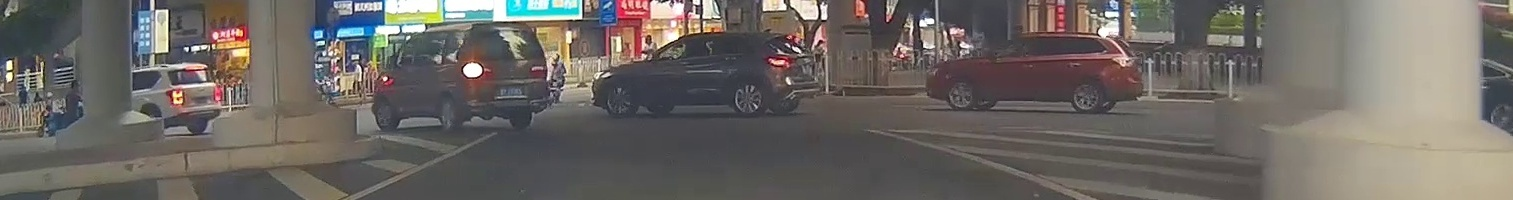L_light: (166, 89, 184, 106), (463, 66, 490, 76)
R_light: (530, 65, 546, 76), (213, 86, 222, 101)
T_light: (185, 66, 204, 70), (502, 28, 518, 31)
day-brake: (164, 63, 222, 133)
day-left: (461, 21, 547, 128)
